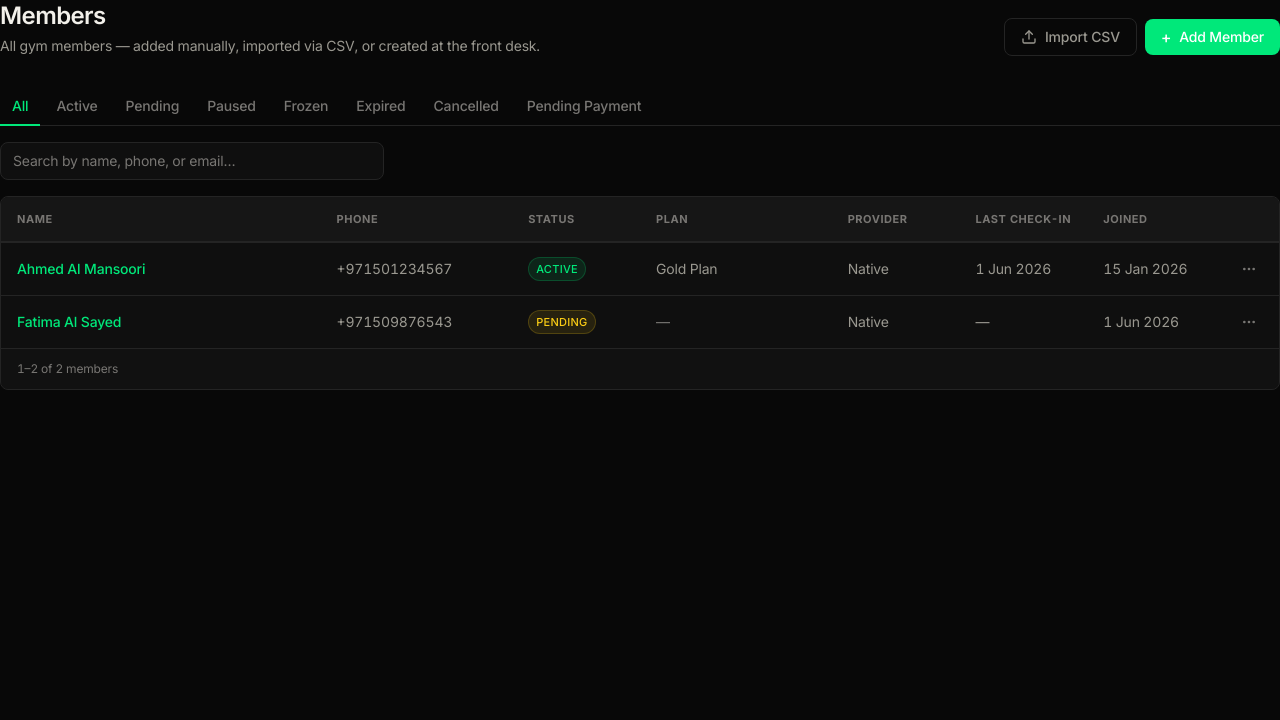
Test: MembersClient › edit member flow › fetches full detail and opens Edit modal
Click the button named "Actions for". click: (1249, 269)
box: [1235,255,1263,283]
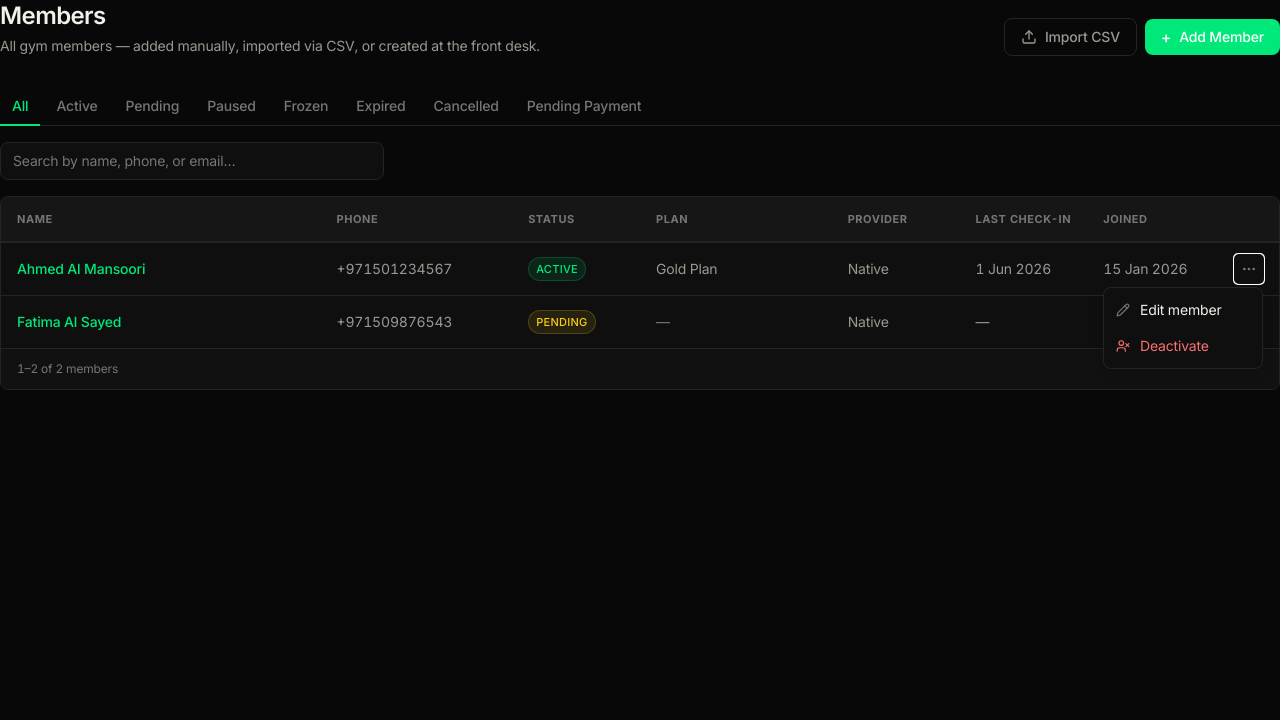
Click the button "Edit member". click: (1183, 310)
box: [1104,292,1262,328]
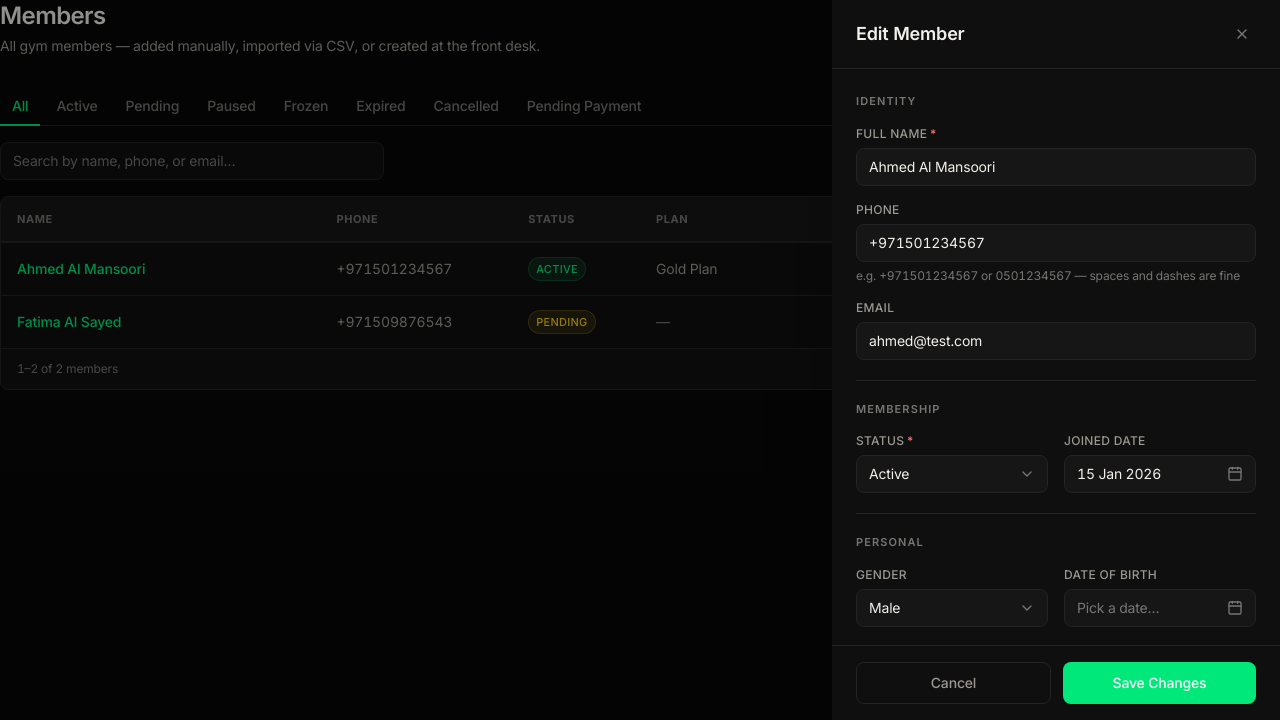
Expected: the dialog "Edit Member" is shown
